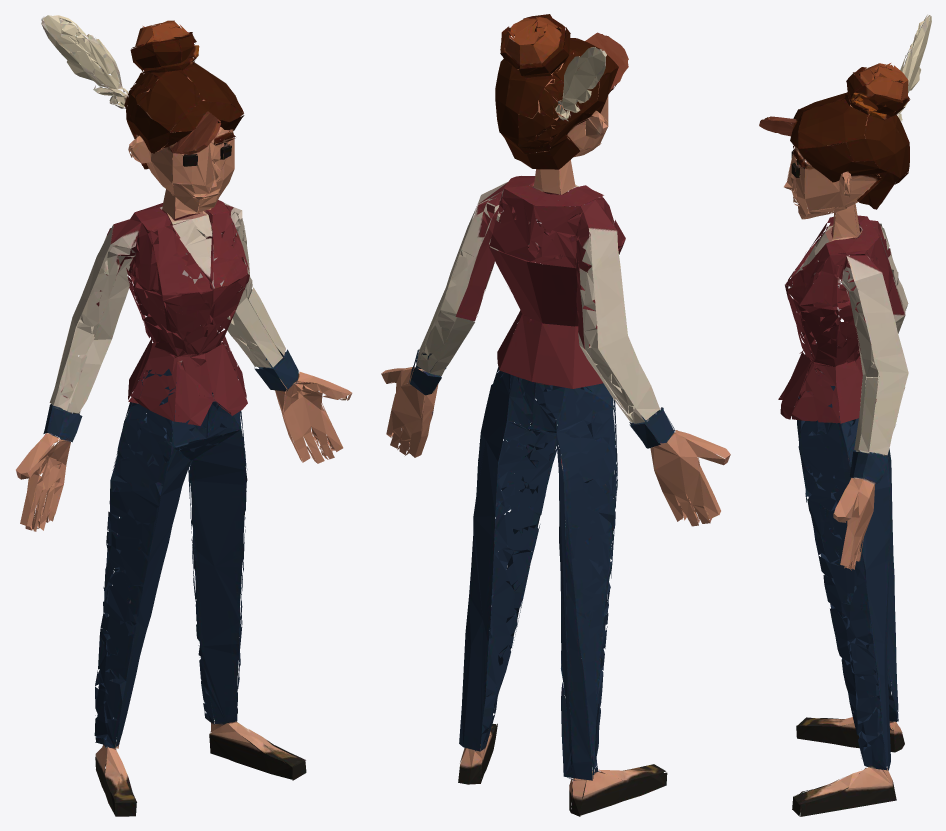
File: habitant.glb
3 renders of one model, left to right at view 1: azimuth 30°, elevation 25°; view 2: azimuth 150°, elevation 25°; view 3: azimuth 270°, elevation 25°, orthographic. The views are drawn at different scales.
Parts seen in each view (by area): view 1: world; view 2: world; view 3: world.
Part boxes in pixels (box(x1,y1,x2,y2)): world: box(16, 15, 352, 816); world: box(381, 14, 730, 816); world: box(759, 14, 931, 816).
Size of the model in its own units: 0.4606 by 1 by 0.2189.
Materials: 1 (1 with a texture image).
